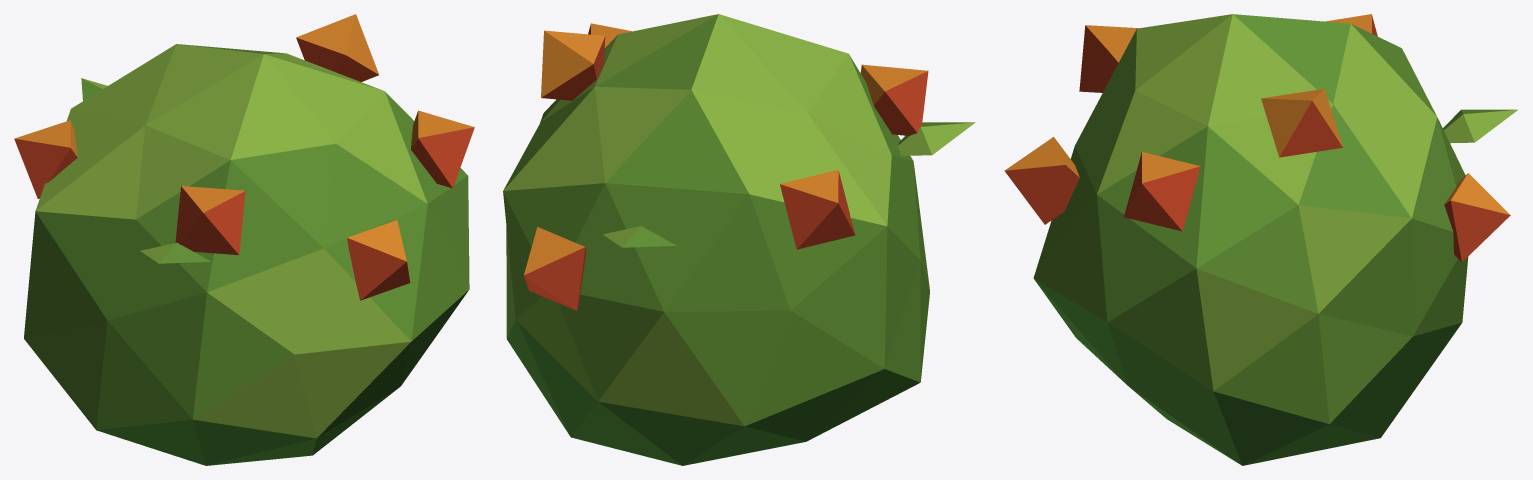
File: sunberry_ripe.glb
The picture shows the model from 3 angles, left to right: view 1: azimuth 30°, elevation 25°; view 2: azimuth 150°, elevation 25°; view 3: azimuth 270°, elevation 25°; orthographic projection. The views are drawn at different scales.
Parts seen in each view (by area): view 1: sunberry_ripe; view 2: sunberry_ripe; view 3: sunberry_ripe.
Part boxes in pixels (x1=…): sunberry_ripe: x1=14, y1=14, x2=474, y2=465; sunberry_ripe: x1=503, y1=14, x2=975, y2=465; sunberry_ripe: x1=1004, y1=14, x2=1517, y2=465.
Size of the model in its own units: 0.3279 by 0.3195 by 0.364.
